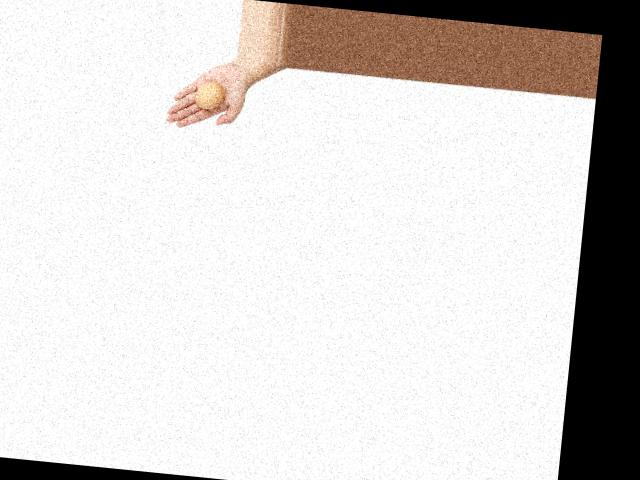egg: (195, 80, 226, 110)
